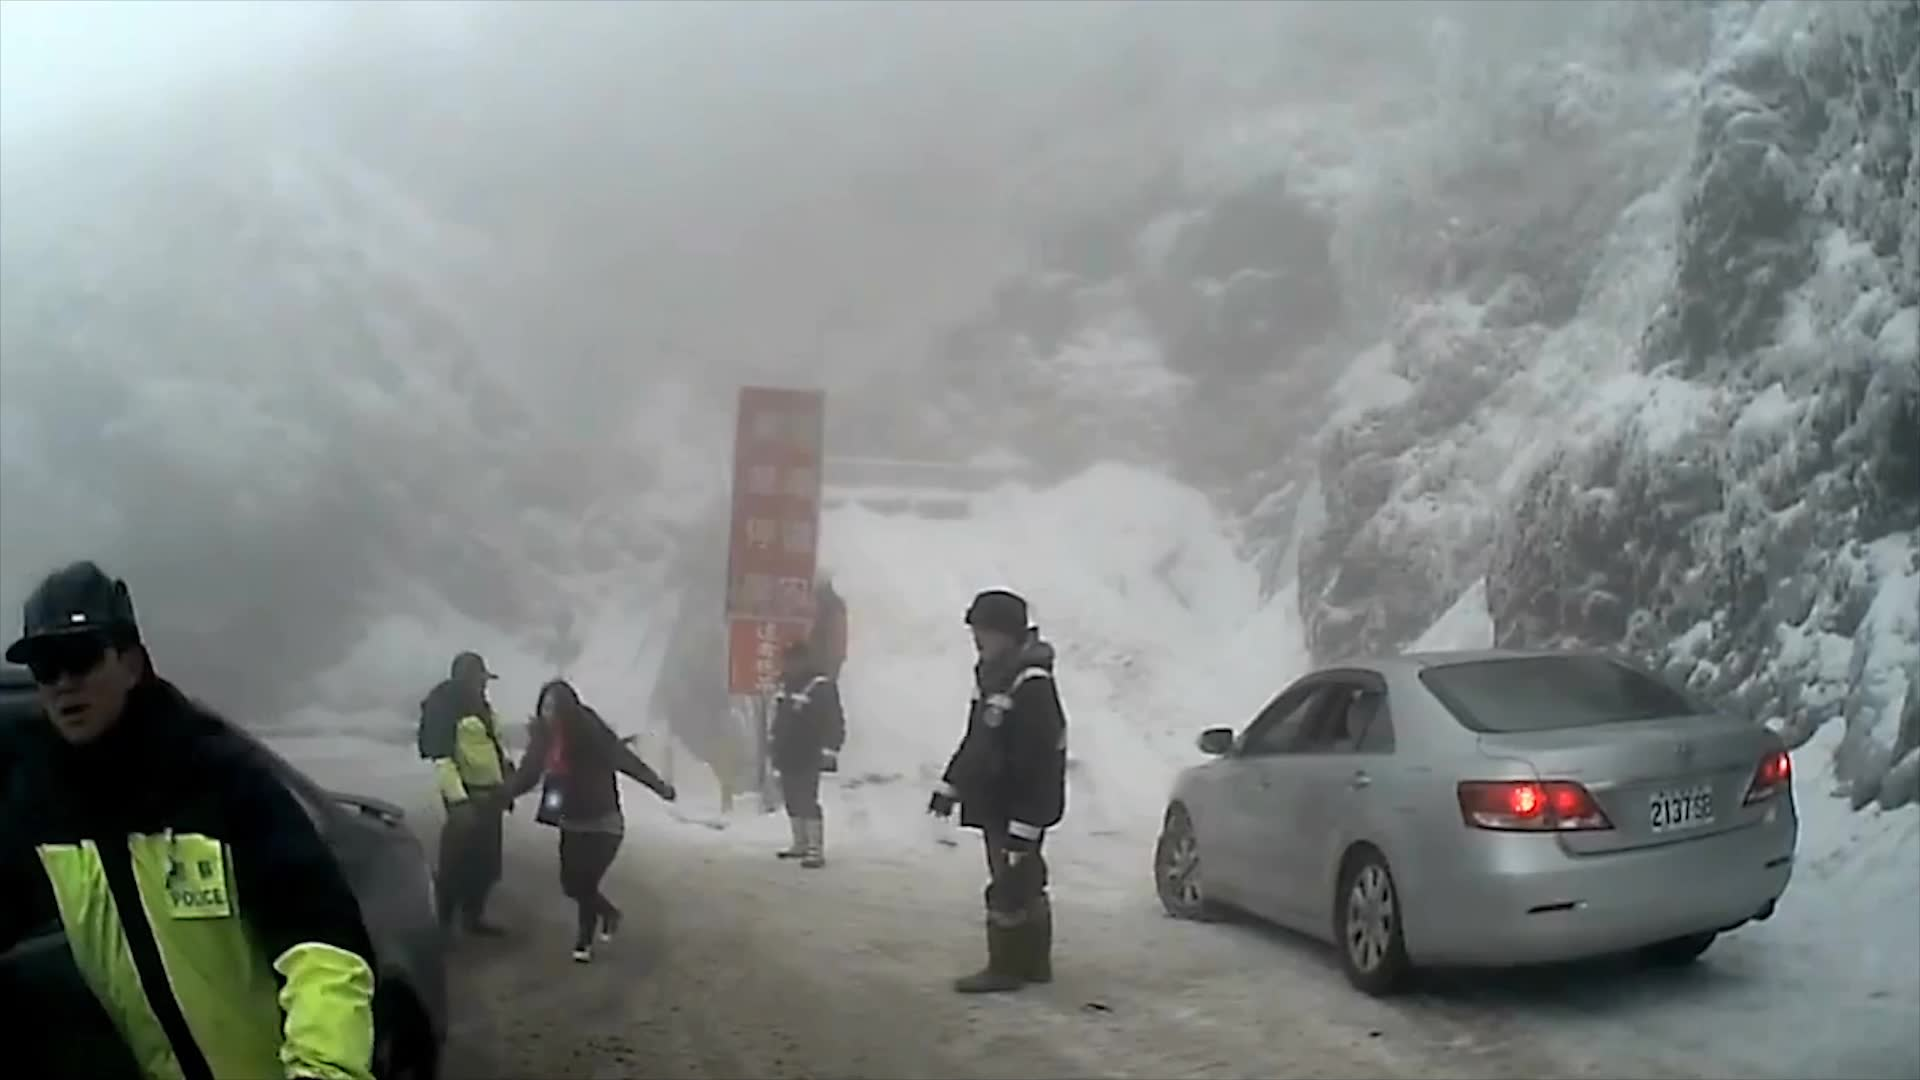pedestrian: (1, 562, 395, 1080), (925, 587, 1068, 996), (498, 678, 673, 959), (412, 653, 523, 938), (764, 637, 845, 868), (789, 564, 852, 746)
vehicle: (1148, 647, 1798, 996), (0, 665, 450, 1079)
